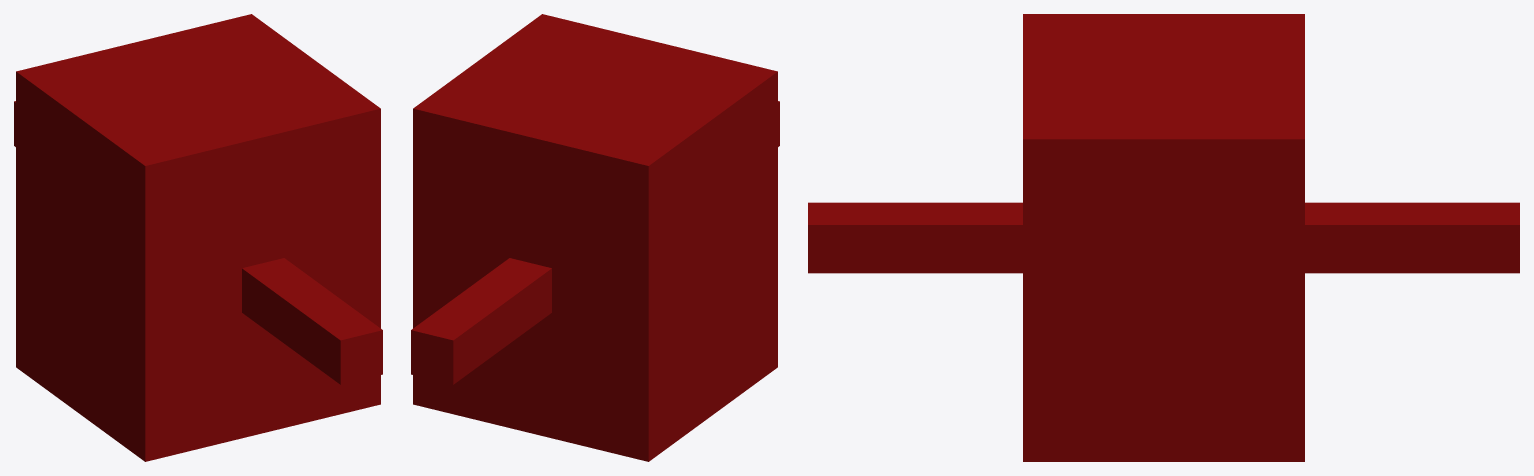
File: boat_lift_carriage.dae
3 renders of one model, left to right at view 1: azimuth 30°, elevation 25°; view 2: azimuth 150°, elevation 25°; view 3: azimuth 270°, elevation 25°, orthographic. The views are drawn at different scales.
Visible parts, largest first — view 1: CARRIAGE_BODY, CARRIAGE_RAIL_L; view 2: CARRIAGE_BODY, CARRIAGE_RAIL_R; view 3: CARRIAGE_BODY, CARRIAGE_RAIL_L, CARRIAGE_RAIL_R.
Part boxes in pixels (box(x1,y1,x2,y2)): CARRIAGE_BODY: box(16, 14, 380, 461); CARRIAGE_RAIL_L: box(242, 258, 382, 384); CARRIAGE_BODY: box(413, 14, 777, 461); CARRIAGE_RAIL_R: box(411, 258, 551, 384); CARRIAGE_BODY: box(1023, 14, 1304, 461); CARRIAGE_RAIL_L: box(808, 202, 1022, 273); CARRIAGE_RAIL_R: box(1305, 202, 1519, 273).
Bounding box in the file's own units: 1 × 2.4 × 1.2.
